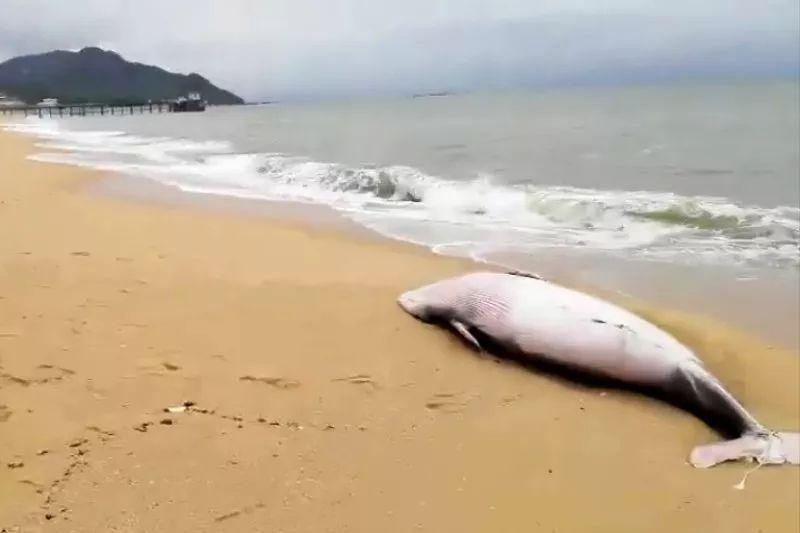fish: (397, 254, 794, 471)
